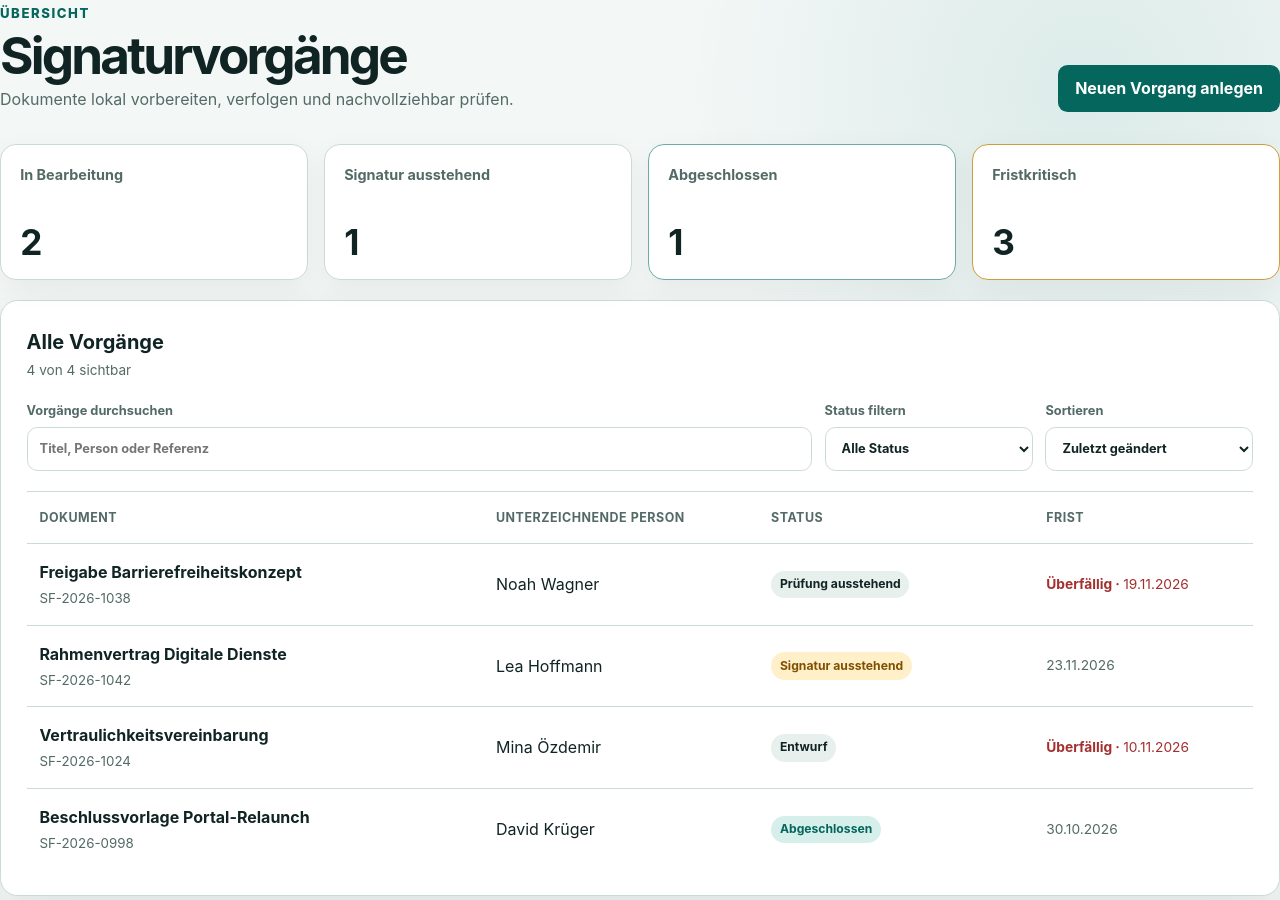
DashboardPage › shows a useful no-results state
Type "nicht vorhanden" into the search field labelled "Vorgänge durchsuchen" at (419, 449), box [27, 427, 812, 471]
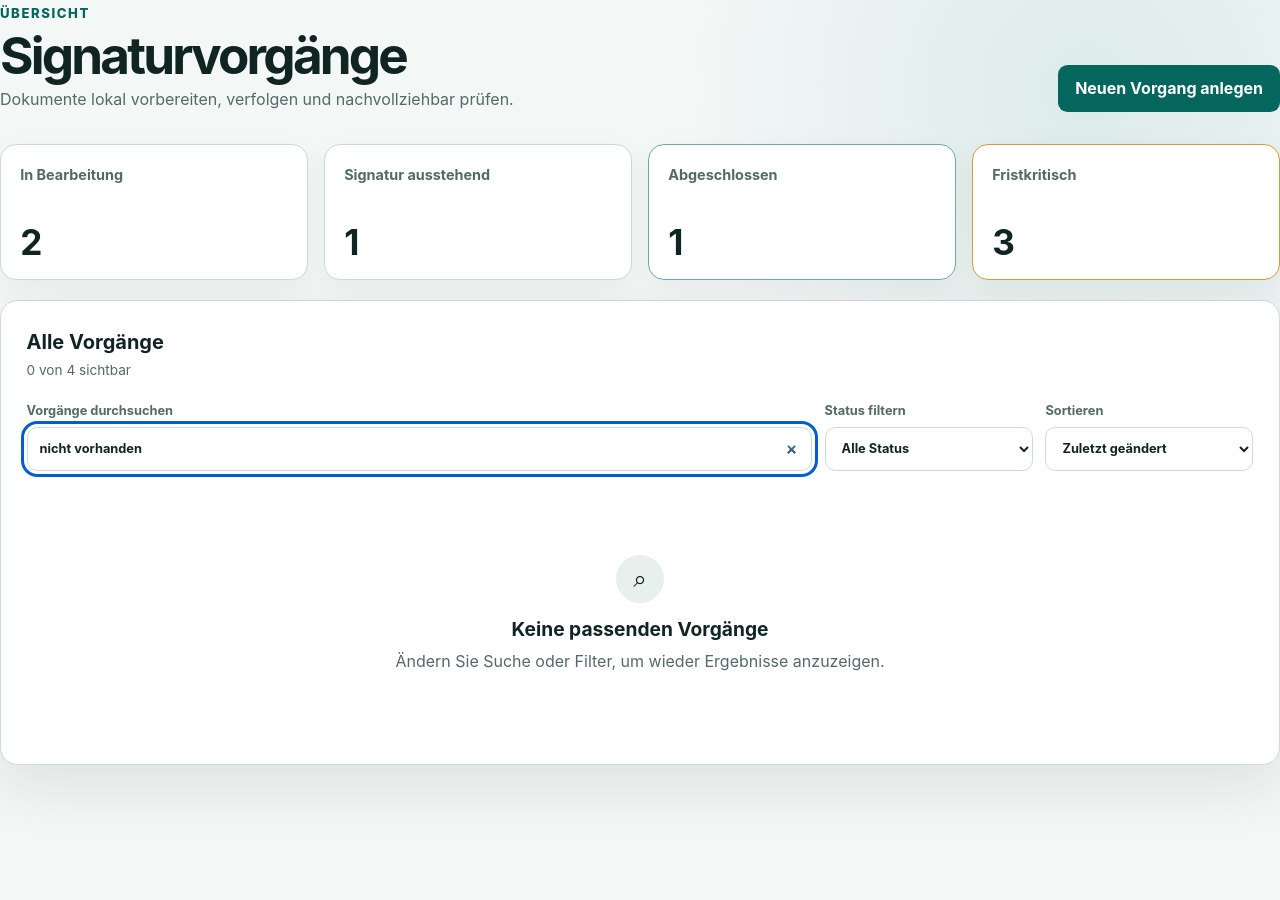
expect the heading "Keine passenden Vorgänge" is shown: met, box [512, 618, 768, 642]
